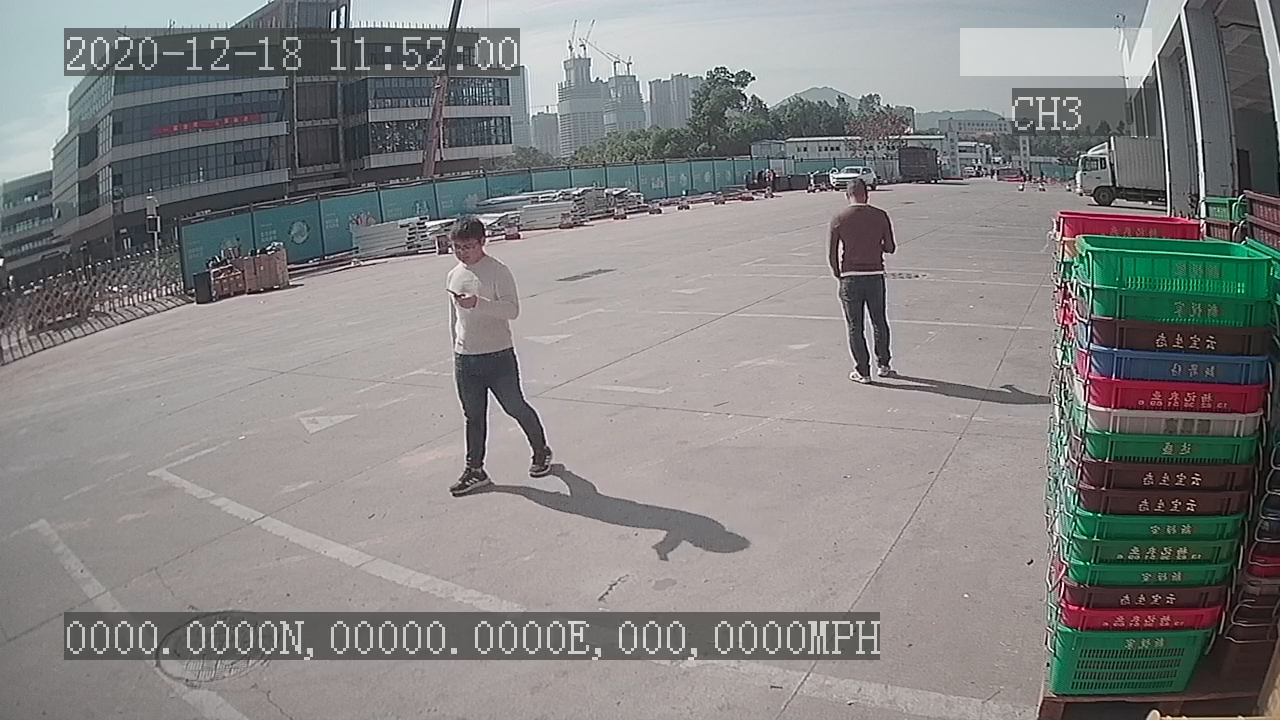person: (431, 210, 560, 506), (822, 169, 908, 390)
